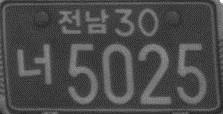0: (100, 42, 135, 107), (137, 7, 159, 39)
2: (138, 41, 172, 105)
3: (114, 7, 135, 38)
5: (176, 41, 209, 106), (67, 41, 98, 106)
너: (15, 41, 53, 86)
전남_O: (57, 7, 109, 36)
